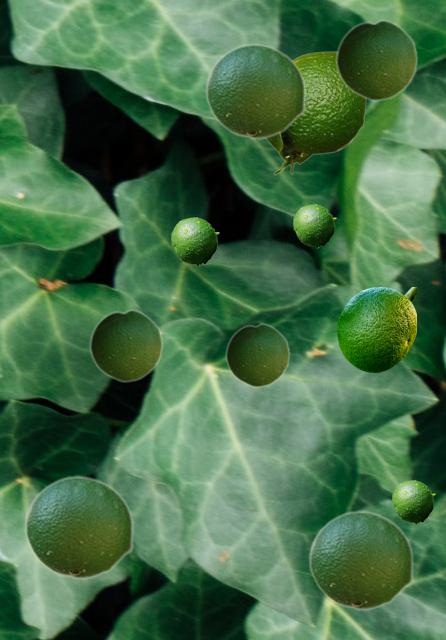dalandan: (266, 51, 365, 174), (24, 475, 133, 579), (308, 510, 413, 610), (205, 43, 305, 139), (335, 18, 417, 101), (337, 287, 415, 371), (89, 308, 162, 382), (225, 322, 289, 387), (171, 217, 218, 265), (392, 480, 434, 523), (293, 204, 335, 247)
